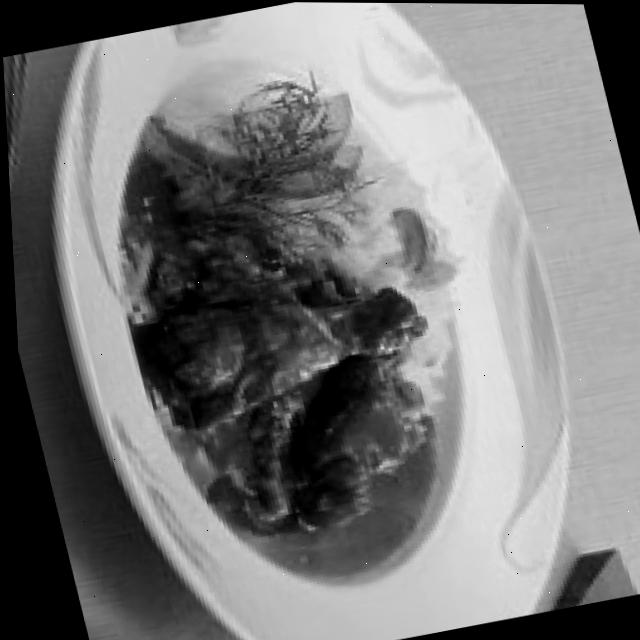牛肉菜式: (7, 0, 622, 640)
